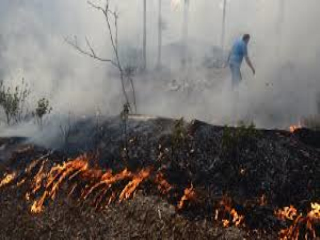fire: (17, 150, 302, 227)
smoke: (179, 35, 309, 125), (9, 43, 125, 132)
